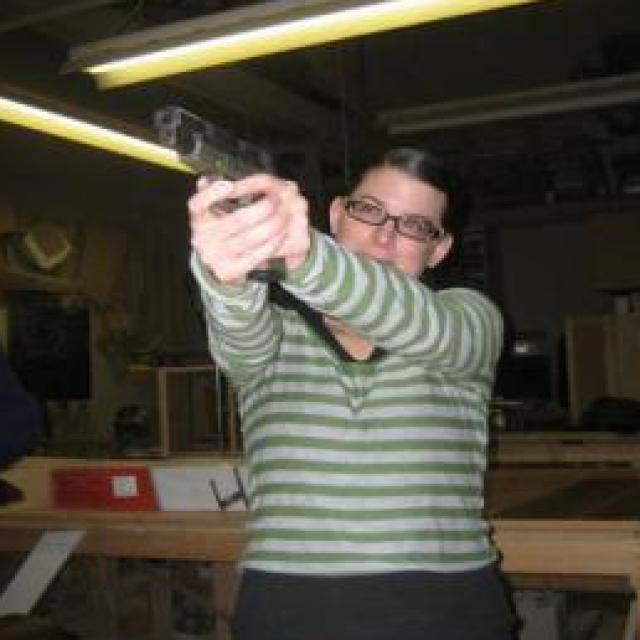pistol: (152, 104, 286, 282)
